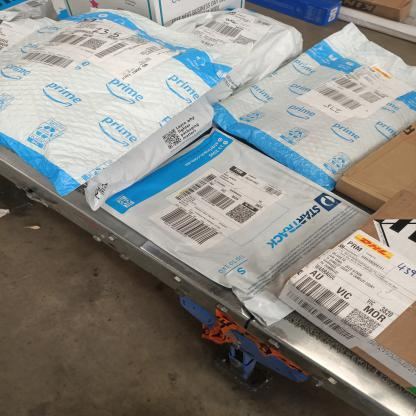label: (278, 231, 416, 347), (167, 171, 268, 251), (22, 18, 134, 84), (308, 54, 400, 128), (192, 15, 250, 42)
package: (84, 119, 379, 309), (0, 1, 204, 207), (207, 15, 416, 181), (282, 196, 416, 386), (166, 18, 304, 76), (49, 0, 248, 32)
